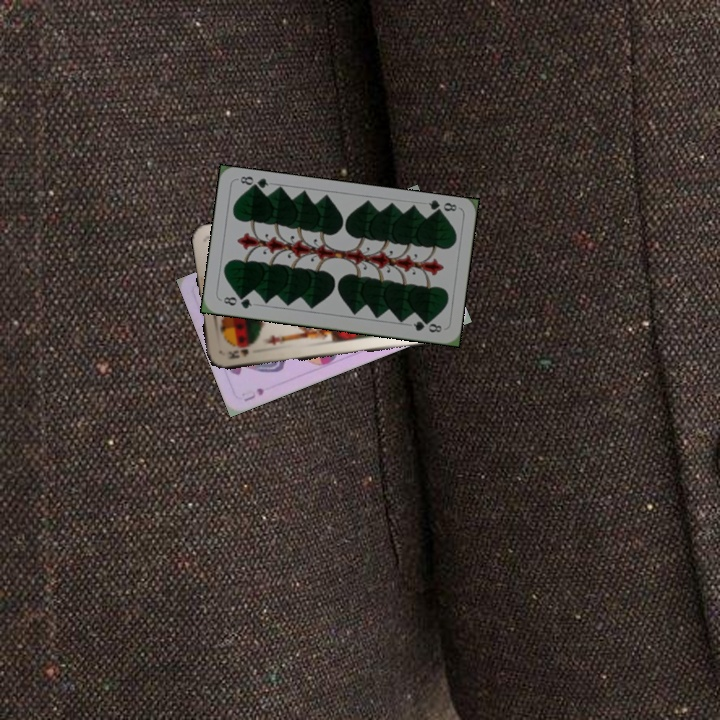G8: (424, 196, 459, 218), (219, 292, 254, 311)
SK: (224, 345, 251, 361)
SU: (240, 384, 266, 404)
